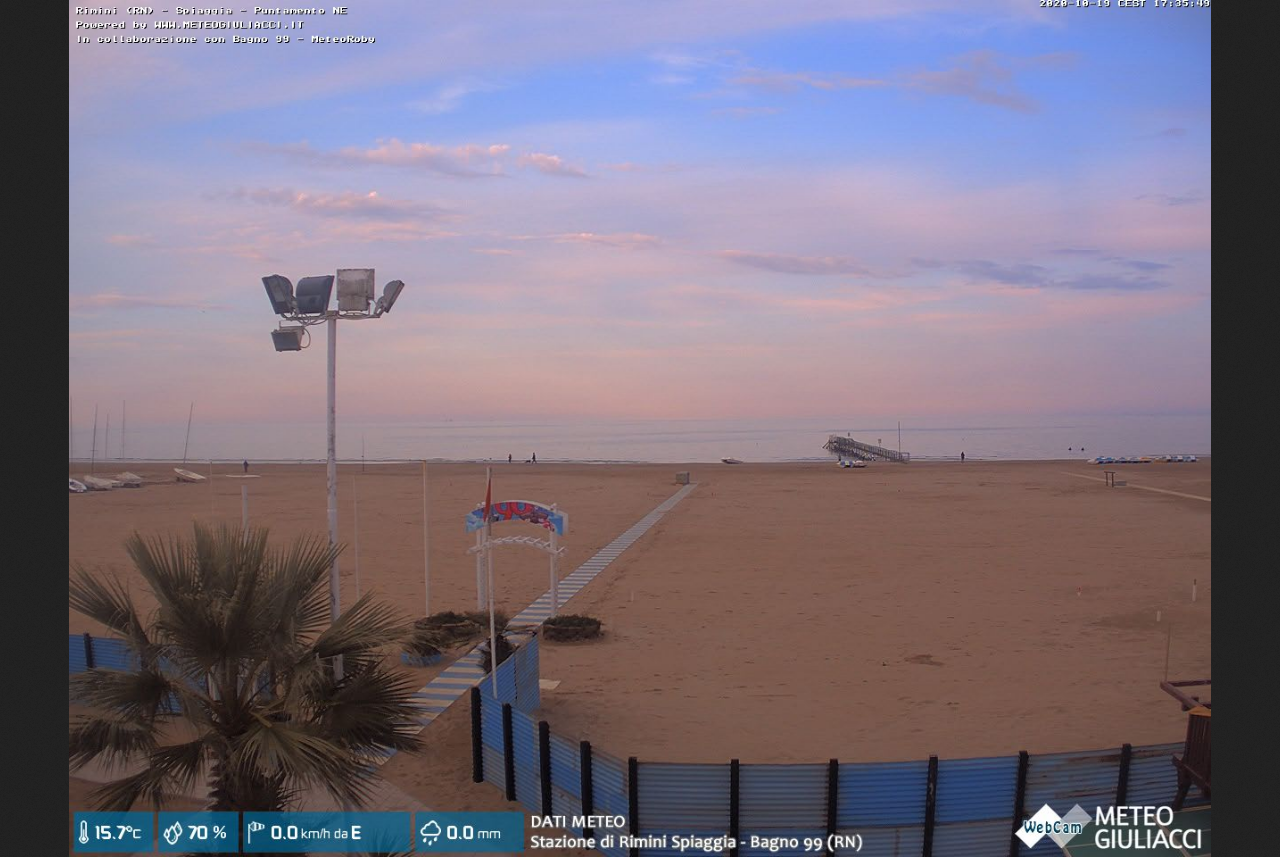no: (479, 463, 502, 537)
